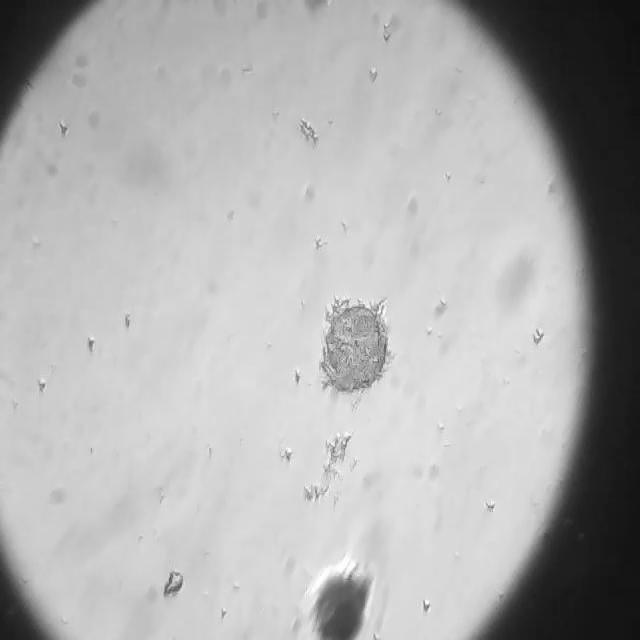alexandrium: (316, 302, 410, 400)
alexandrium minutum: (304, 562, 392, 640)
